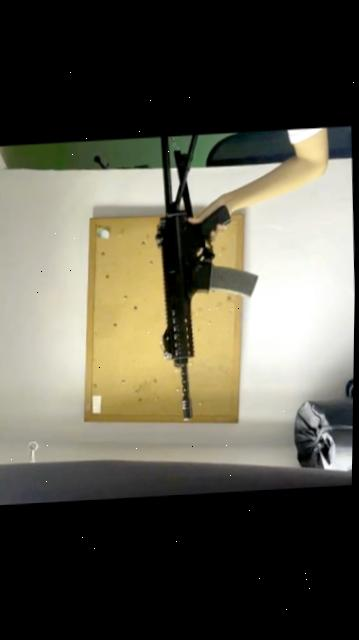rifle: (134, 133, 266, 432)
